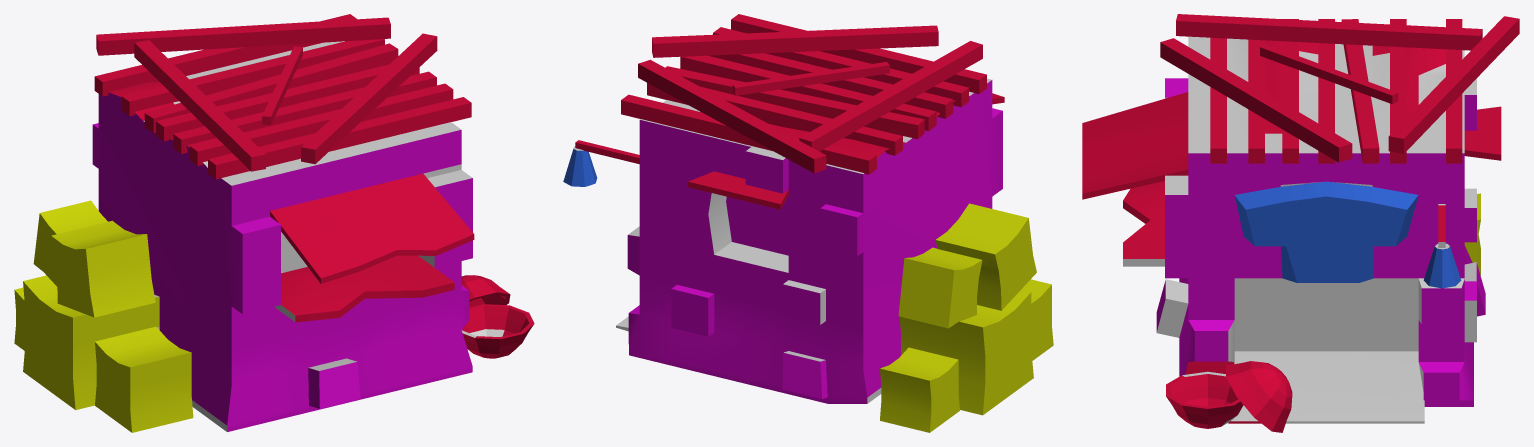
File: building2.fbx
3 views of the same model, side by side, from view 1: azimuth 30°, elevation 25°; view 2: azimuth 150°, elevation 25°; view 3: azimuth 270°, elevation 25° (orthographic). The views are drawn at different scales.
Visible parts, largest first — view 1: pCube19.001; view 2: pCube19.001; view 3: pCube19.001.
Boxes of the visible parts, <box> form: pCube19.001: <box>14,14,534,432</box>; pCube19.001: <box>563,14,1053,432</box>; pCube19.001: <box>1082,14,1519,432</box>.
Bounding box in the file's own units: 1929 × 1201 × 1684.
